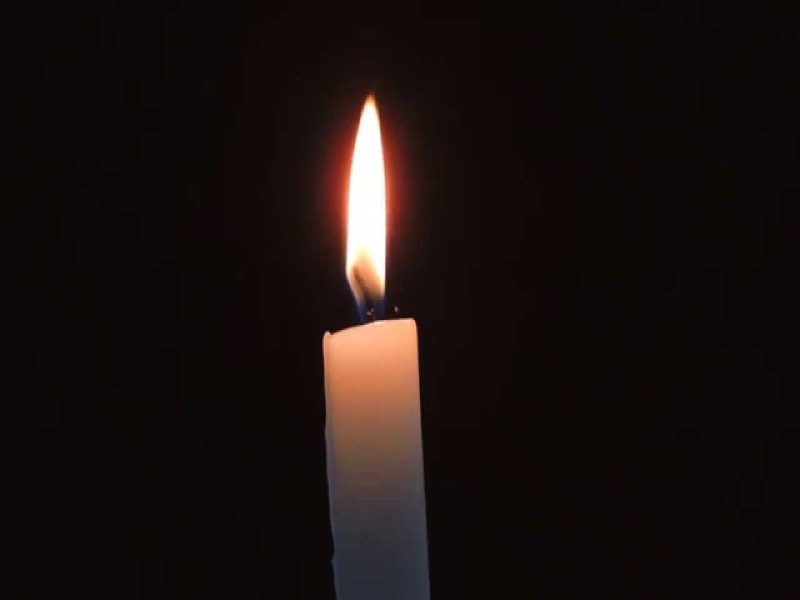fire: (342, 99, 390, 290)
